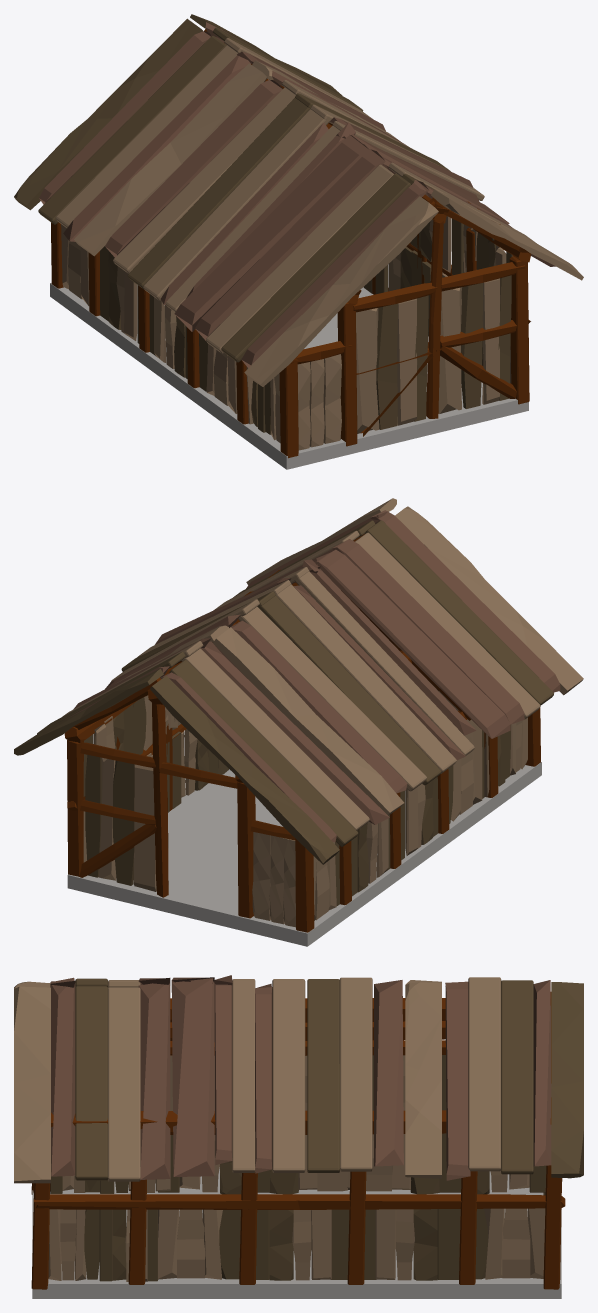
File: Lumber Camp.fbx
The picture shows the model from 3 angles, top to bottom: view 1: azimuth 30°, elevation 25°; view 2: azimuth 150°, elevation 25°; view 3: azimuth 270°, elevation 25°; orthographic projection. The views are drawn at different scales.
Visible parts, largest first — view 1: Lumber Hut; view 2: Lumber Hut; view 3: Lumber Hut.
Boxes of the visible parts, x1=… form: Lumber Hut: x1=14, y1=14, x2=583, y2=469; Lumber Hut: x1=14, y1=498, x2=583, y2=946; Lumber Hut: x1=14, y1=975, x2=583, y2=1298.
Bounding box in the file's own units: 1474 × 1065 × 2006.
